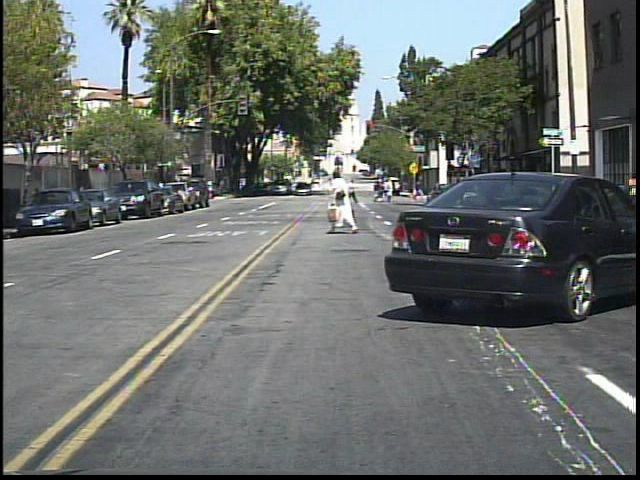person: (326, 166, 357, 237), (515, 166, 535, 224), (621, 164, 639, 226), (342, 174, 361, 208), (383, 173, 400, 206)
